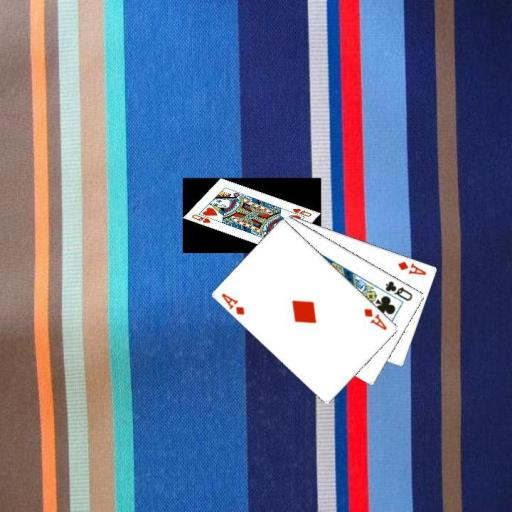AD: (361, 305, 389, 332), (218, 290, 246, 317), (395, 258, 428, 277)
QC: (382, 278, 414, 303)
